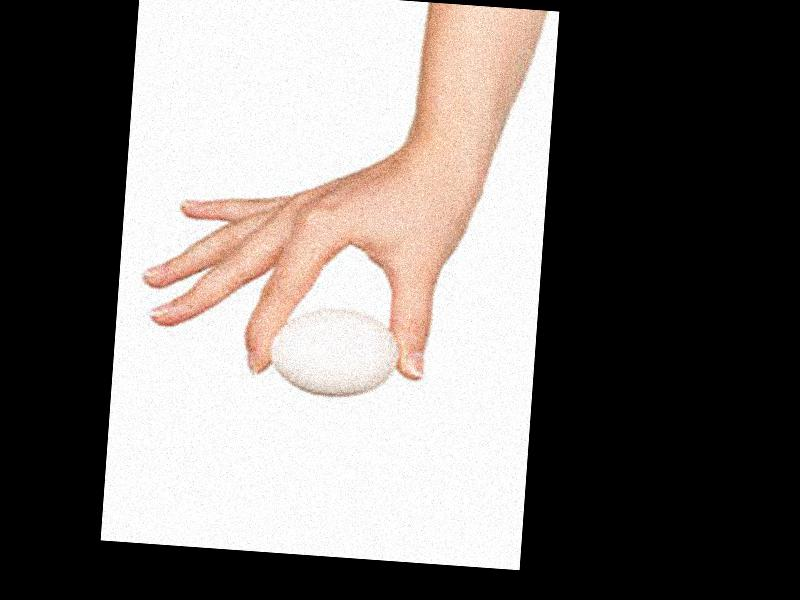Eggs: (266, 303, 401, 403)
